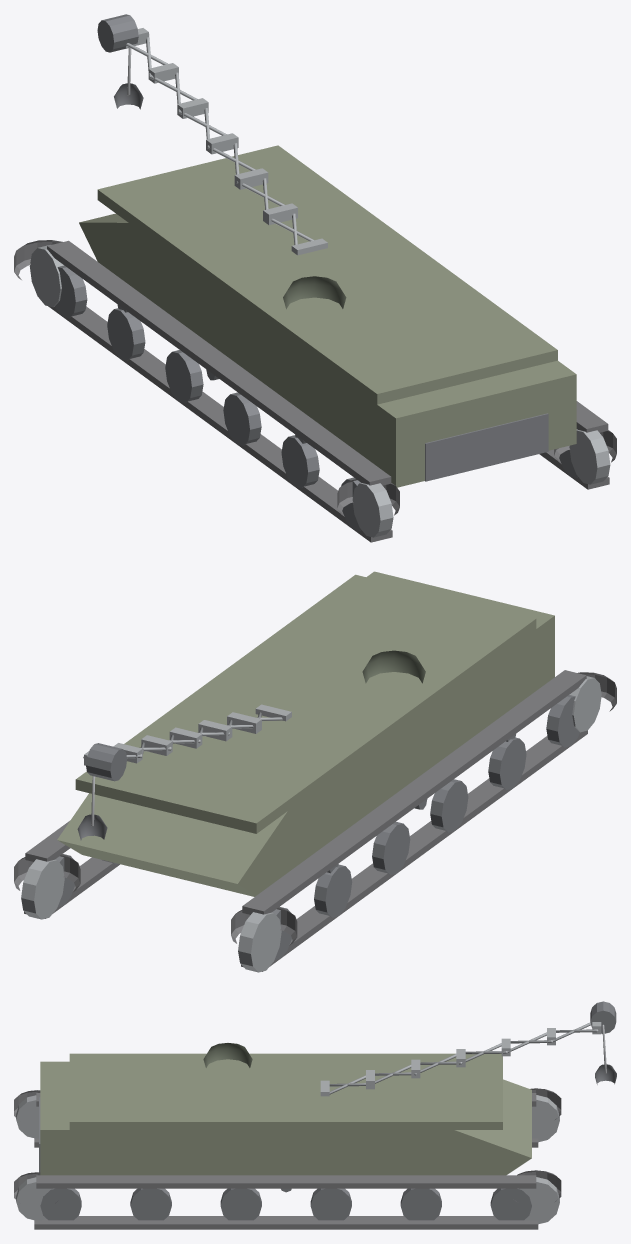
Rendered from recovery-vehicle.glb.
3 views of the same model, one above another, from view 1: azimuth 30°, elevation 25°; view 2: azimuth 150°, elevation 25°; view 3: azimuth 270°, elevation 25° (orthographic). The views are drawn at different scales.
Visible parts, largest first — view 1: recovery-vehicle, crane-boom (×2); view 2: recovery-vehicle, crane-boom (×2); view 3: recovery-vehicle, crane-boom (×2).
Part boxes in pixels (x1,y1,x2,y2): recovery-vehicle: (14,145,616,542); crane-boom (×2): (97,14,327,255); recovery-vehicle: (14,571,616,972); crane-boom (×2): (77,704,291,840); recovery-vehicle: (14,1043,561,1229); crane-boom (×2): (320,1001,616,1096).
Size of the model in its own units: 3.8 by 3.01 by 9.32.
